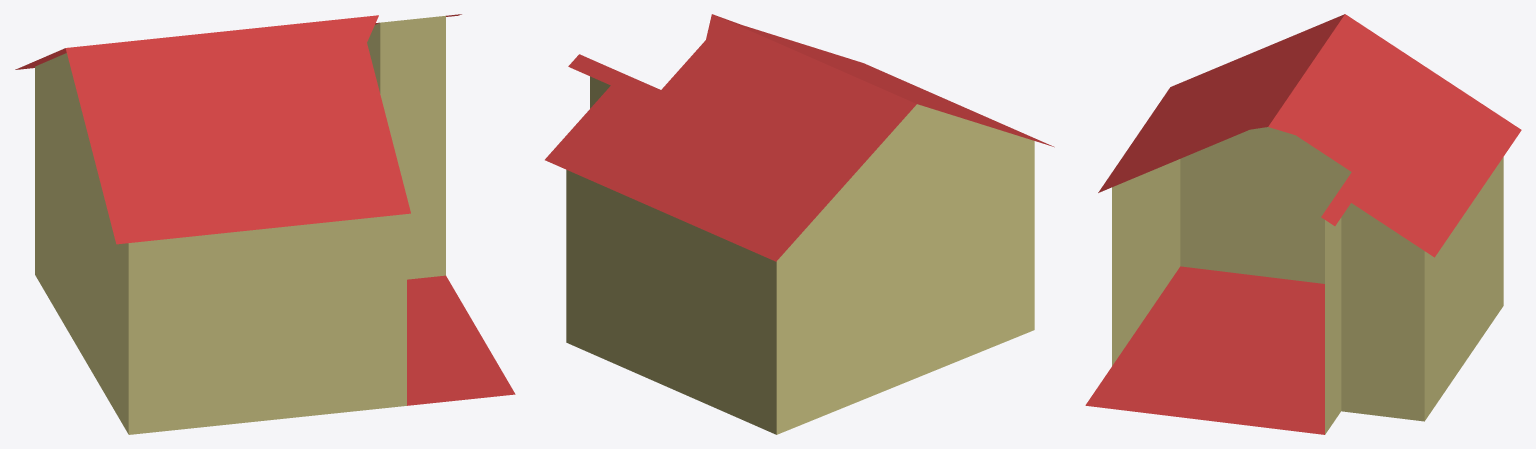
The picture shows the model from 3 angles, left to right: view 1: azimuth 30°, elevation 25°; view 2: azimuth 150°, elevation 25°; view 3: azimuth 270°, elevation 25°; orthographic projection. The views are drawn at different scales.
Size of the model in its own units: 14.85 by 14.9 by 10.01.
